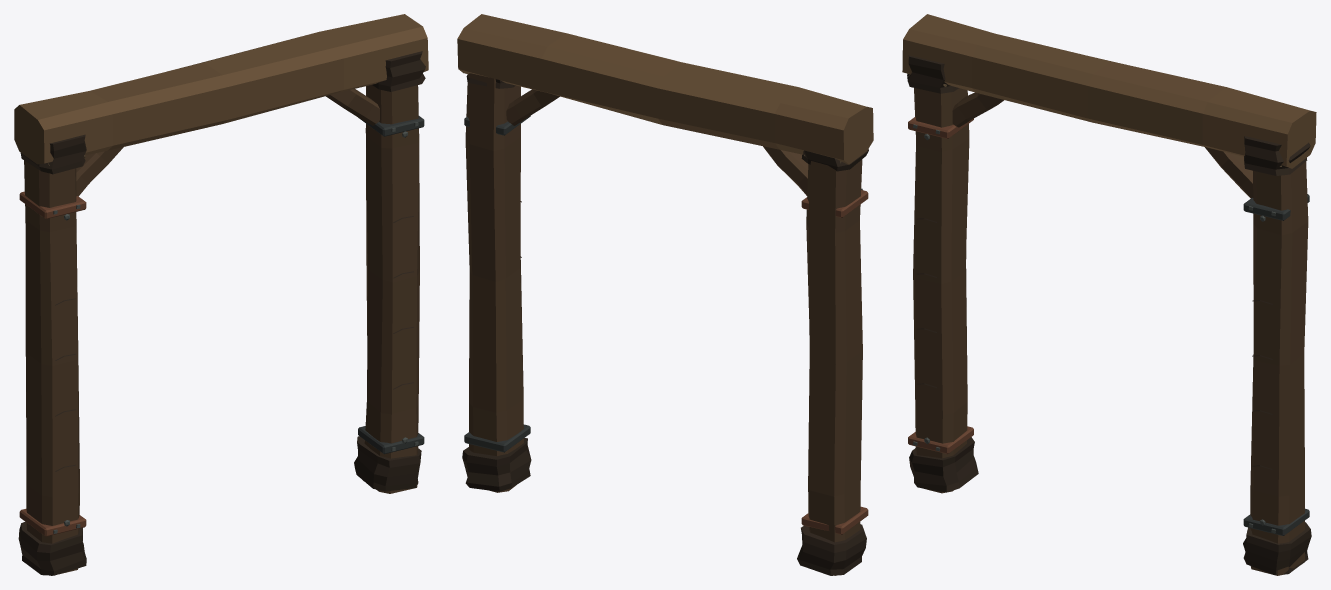
The model's file is support.glb.
The picture shows the model from 3 angles, left to right: view 1: azimuth 30°, elevation 25°; view 2: azimuth 150°, elevation 25°; view 3: azimuth 330°, elevation 25°; orthographic projection.
Parts seen in each view (by area): view 1: Wood, Iron; view 2: Wood, Iron; view 3: Wood, Iron.
Boxes of the visible parts, x1,y1,x2,y2 form: Wood: (14, 14, 428, 575); Iron: (19, 116, 424, 536); Wood: (457, 14, 873, 575); Iron: (464, 116, 868, 534); Wood: (902, 14, 1316, 575); Iron: (908, 117, 1309, 535).
Bounding box in the file's own units: 2.12 × 2.4 × 0.3278.
